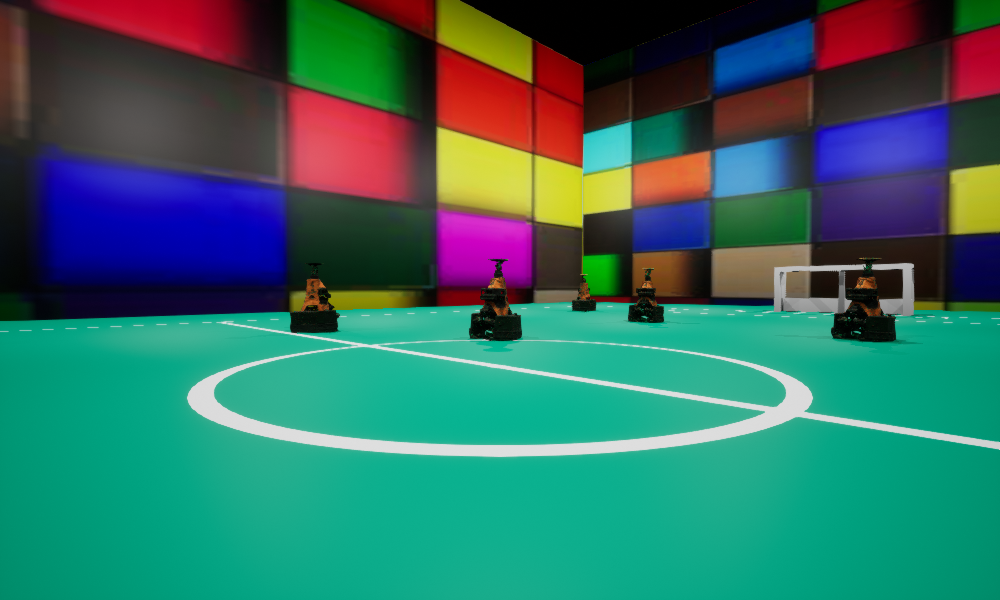o: (831, 258, 895, 341), (469, 259, 521, 339), (290, 263, 339, 332), (628, 268, 663, 321), (572, 274, 595, 311)
